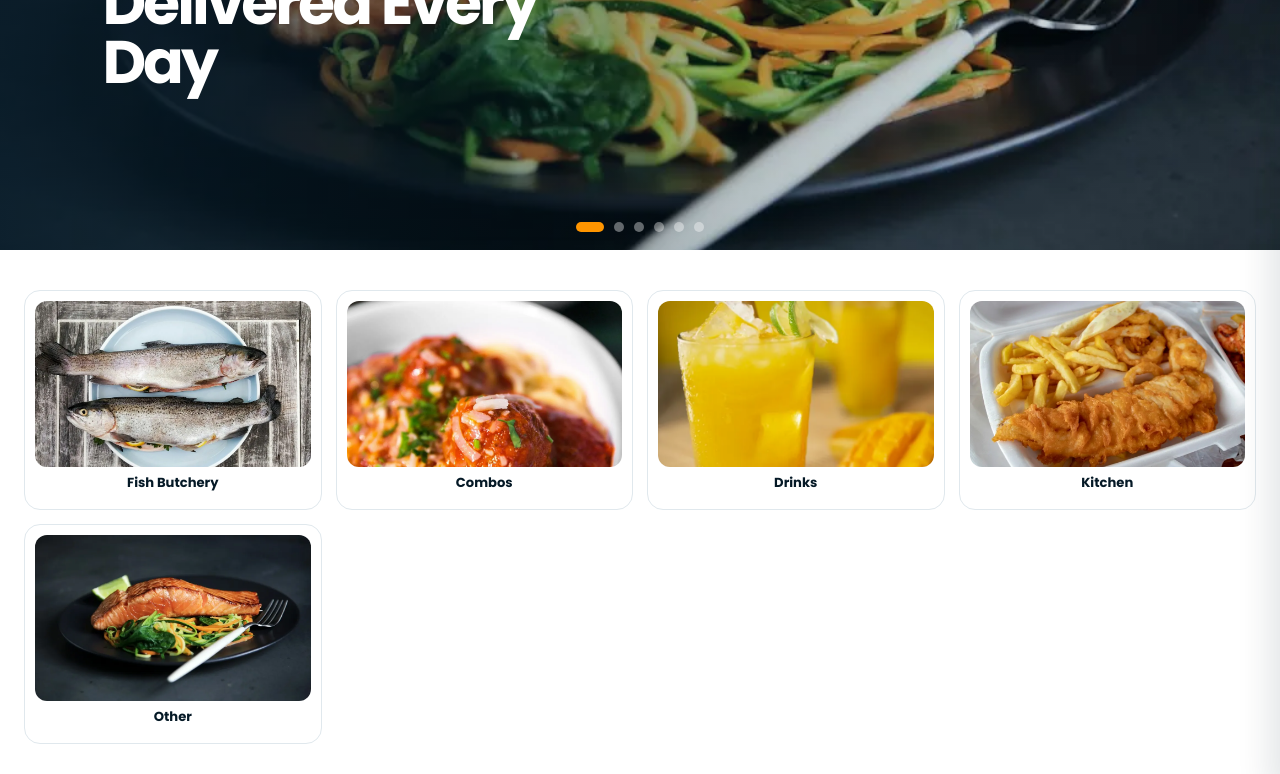
Test: Pazuri Fish storefront › opens category dashboards directly without unnecessary filters
The image size is (1280, 774).
(page scrolled)
Click the button "Kitchen" at x=1107, y=400, box [958,290,1256,510]
(page scrolled)
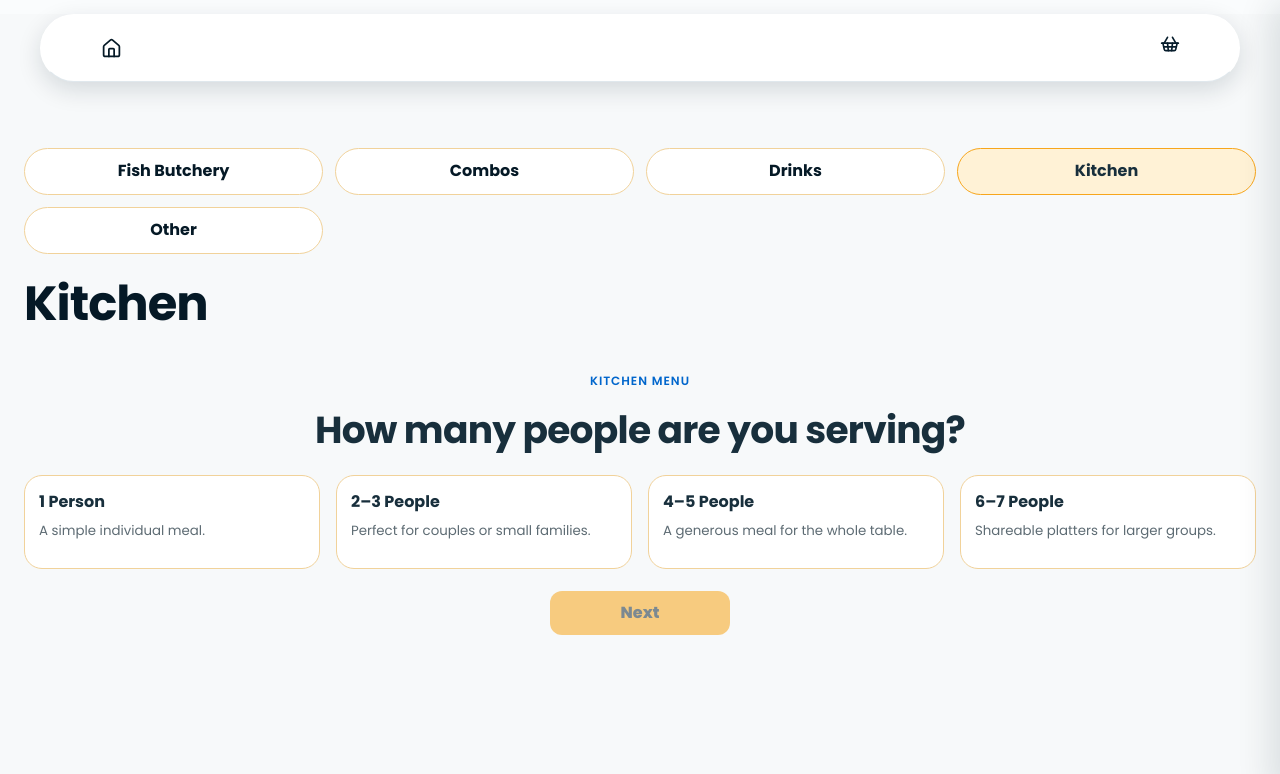
Result: the heading "How many people are you serving?" is shown at [315,404,965,456]
Click the button "2–3 People Perfect for couples or small families." at x=484, y=522, box [336,475,632,569]
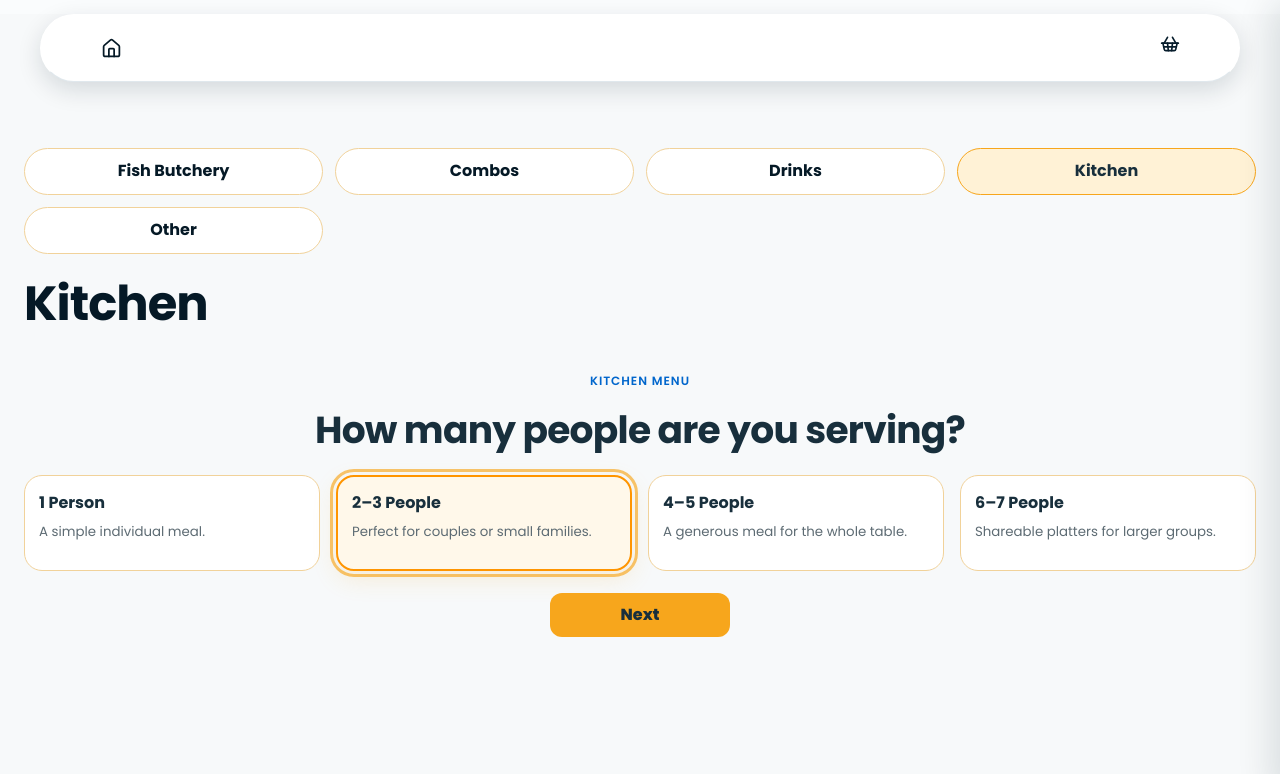
Click the button "Next" at x=640, y=615, box [550,593,730,637]
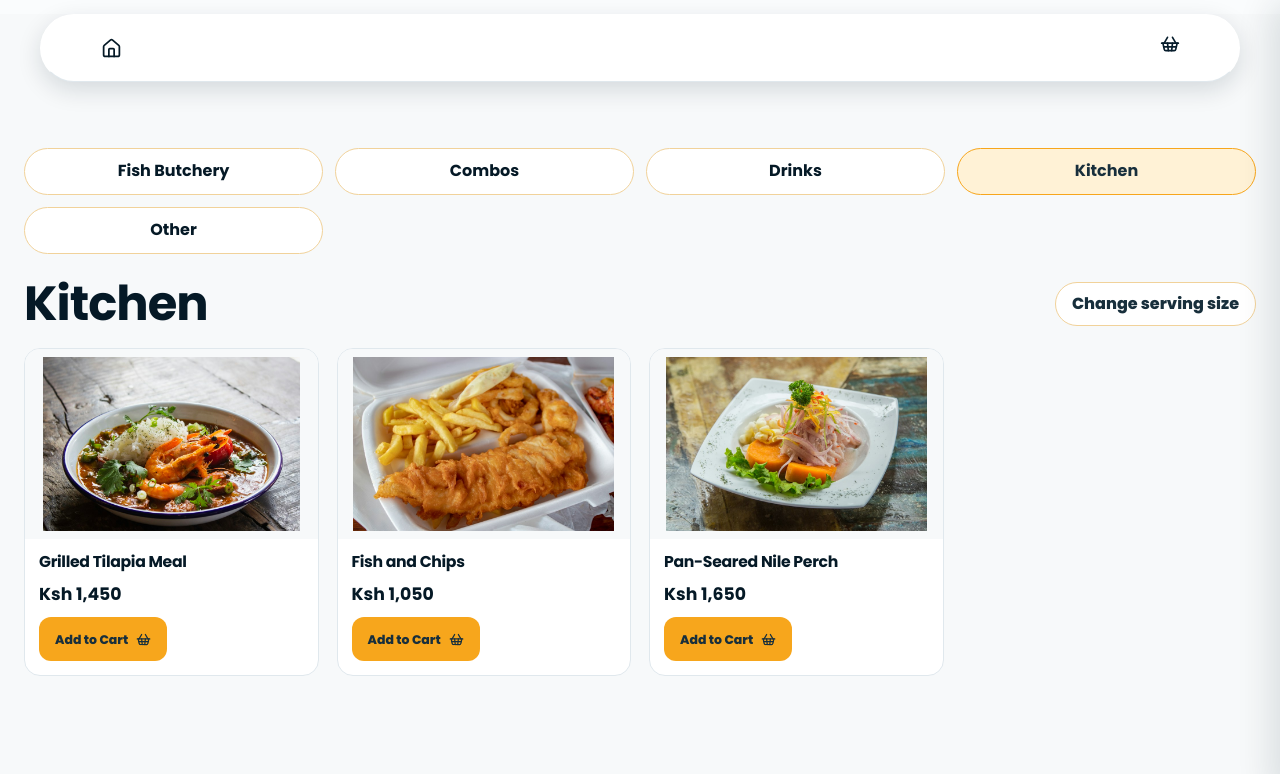
Result: the button named "Pazuri Fish home" is shown at [89,26,133,70]
Result: the heading "Grilled Tilapia Meal" is shown at [39,551,187,572]
Result: the number of elements with class "freshco-product-card" is 3 at [24,348,318,676]; [336,348,631,676]; [649,348,944,676]
